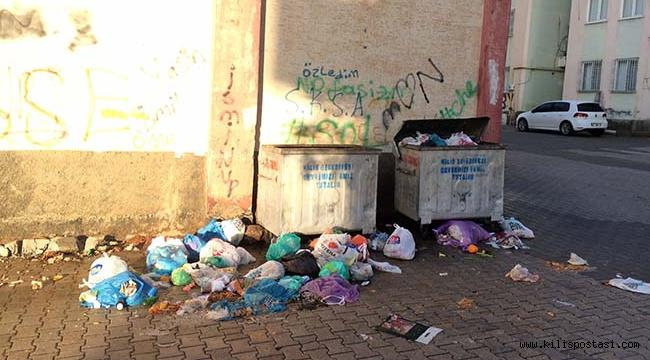Container: (391, 112, 505, 237), (256, 143, 372, 227)
Garbage: (245, 228, 440, 278), (250, 265, 353, 315), (77, 253, 142, 308), (201, 300, 267, 347), (449, 217, 549, 241), (145, 237, 192, 276), (203, 219, 246, 259), (173, 256, 219, 293), (404, 127, 479, 146), (493, 254, 532, 286), (546, 238, 589, 265), (603, 266, 646, 291)
